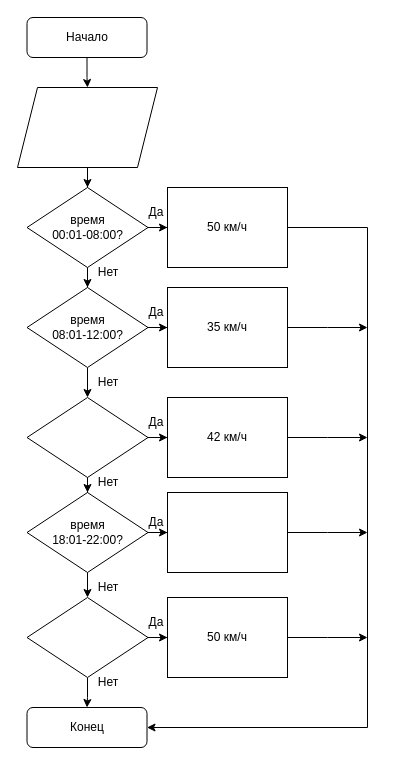
This 393x765 diagram has some shape labels left out. Each missing label, with the box of its shape:
30 км/ч: (166, 492, 288, 572)
ввести время отправления: (16, 86, 158, 168)
время 12:01-18:00?: (26, 396, 148, 478)
время 22:01-00:00?: (26, 596, 148, 678)
